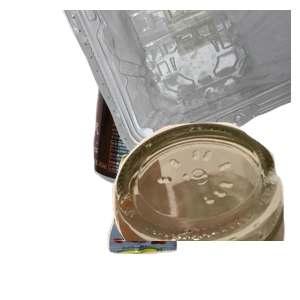glass: (89, 120, 300, 300)
metal: (91, 10, 258, 188)
plastic: (60, 10, 300, 162)
trash: (105, 152, 280, 300)
